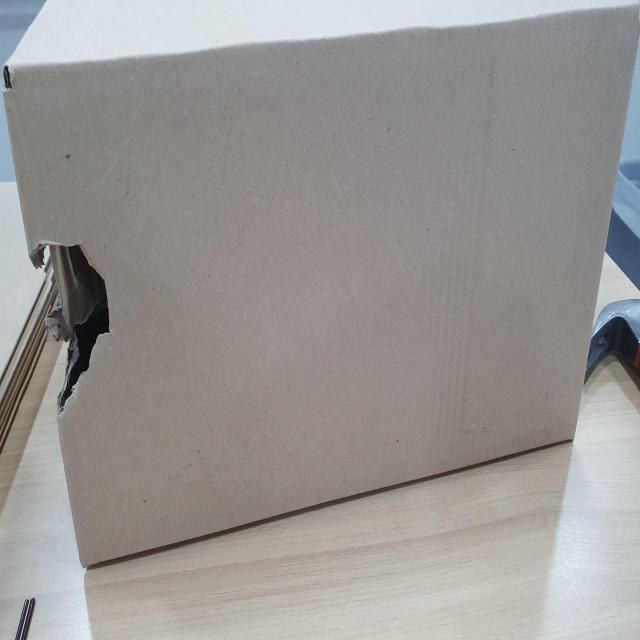damaged: (30, 233, 116, 411)
